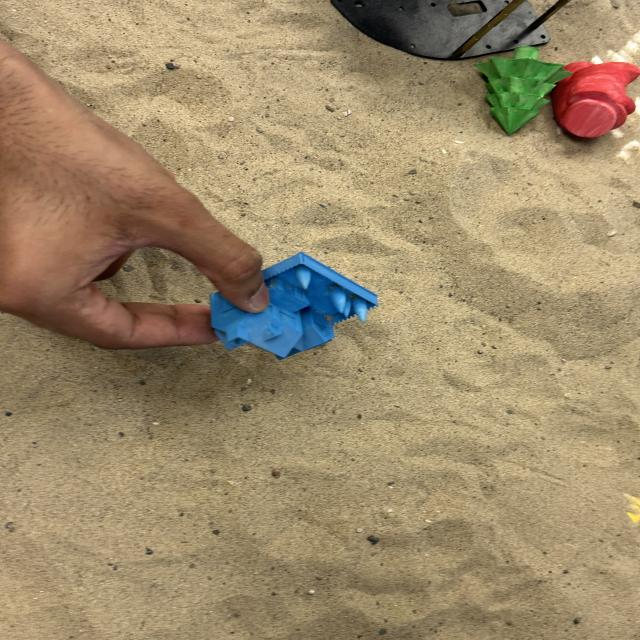fire: (553, 59, 640, 140)
house: (208, 251, 379, 360)
tree: (473, 45, 573, 135)
